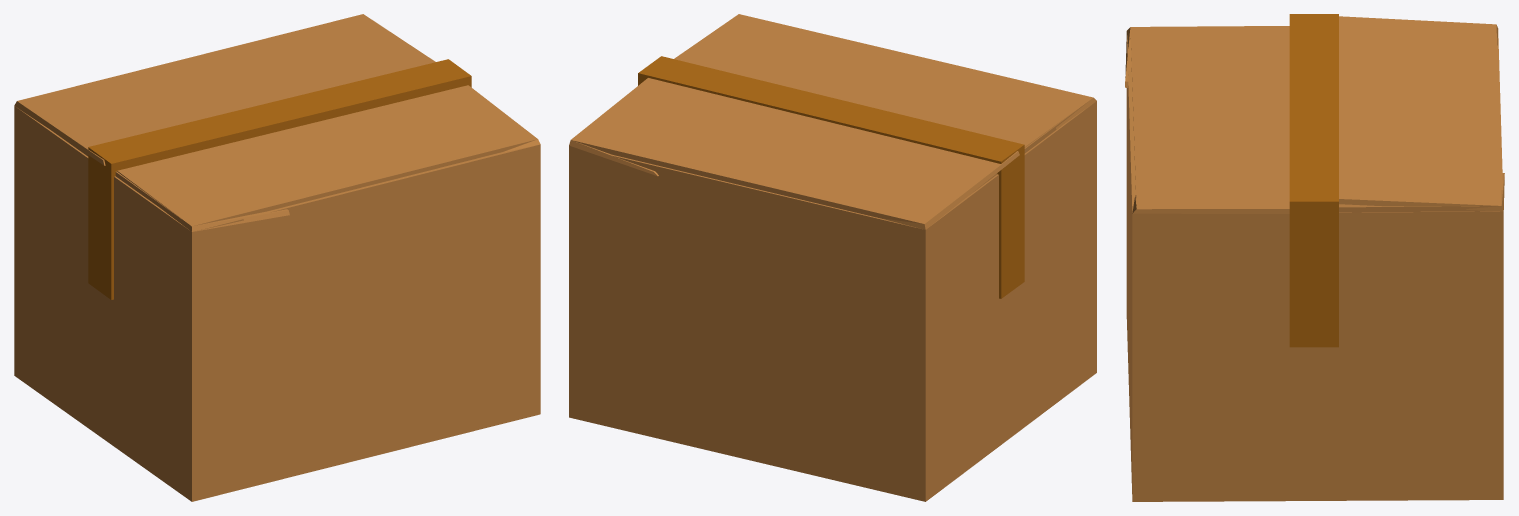
File: dus_packaging_3.glb
The picture shows the model from 3 angles, left to right: view 1: azimuth 30°, elevation 25°; view 2: azimuth 150°, elevation 25°; view 3: azimuth 270°, elevation 25°; orthographic projection. The views are drawn at different scales.
Parts seen in each view (by area): view 1: Cube; view 2: Cube; view 3: Cube.
Boxes of the visible parts, bbox=[...] form: Cube: bbox=[14, 14, 540, 501]; Cube: bbox=[569, 14, 1096, 501]; Cube: bbox=[1125, 14, 1504, 501].
Bounding box in the file's own units: 1.06 × 0.7913 × 0.8999.
